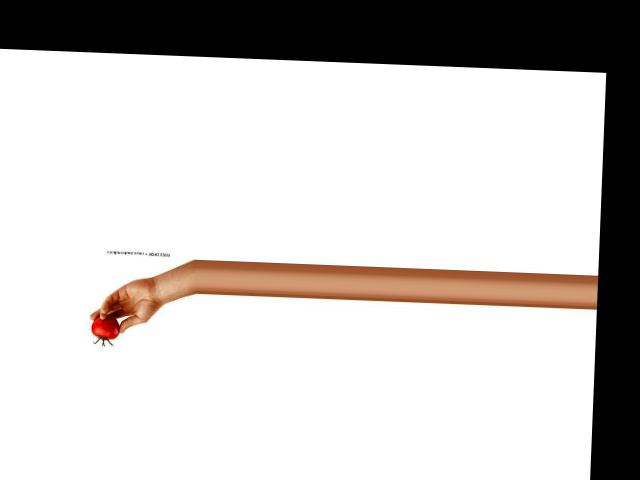tomato: (91, 313, 121, 339)
